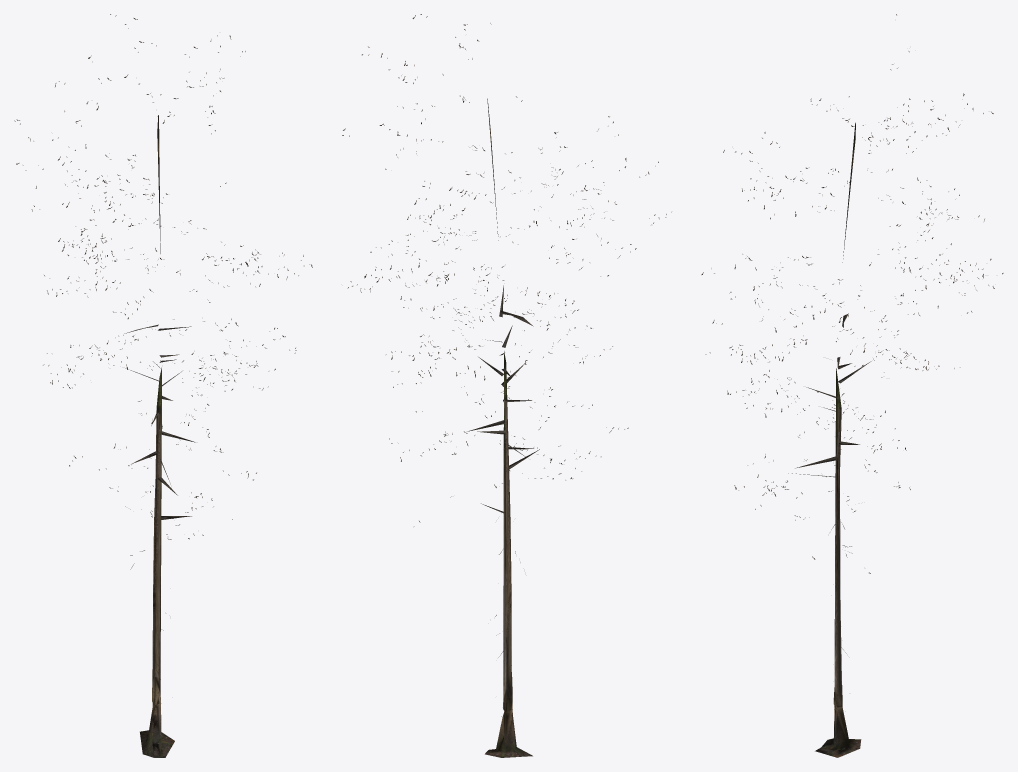
File: pine_tree_01.glb
3 renders of one model, left to right at view 1: azimuth 30°, elevation 25°; view 2: azimuth 150°, elevation 25°; view 3: azimuth 270°, elevation 25°, orthographic. The views are drawn at different scales.
Visible parts, largest first — view 1: pine_tree_01_a_LOD0; view 2: pine_tree_01_a_LOD0; view 3: pine_tree_01_a_LOD0.
Boxes of the visible parts, x1=… form: pine_tree_01_a_LOD0: x1=14, y1=14, x2=312, y2=757; pine_tree_01_a_LOD0: x1=342, y1=14, x2=671, y2=757; pine_tree_01_a_LOD0: x1=701, y1=14, x2=1003, y2=757.
Bounding box in the file's own units: 7.21 × 20.15 × 7.57.
4 materials, 4 textured.
